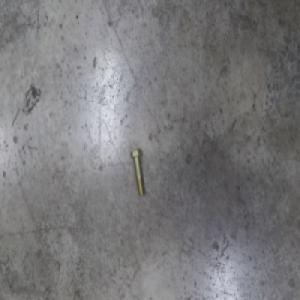Bolt: (130, 146, 145, 196)
